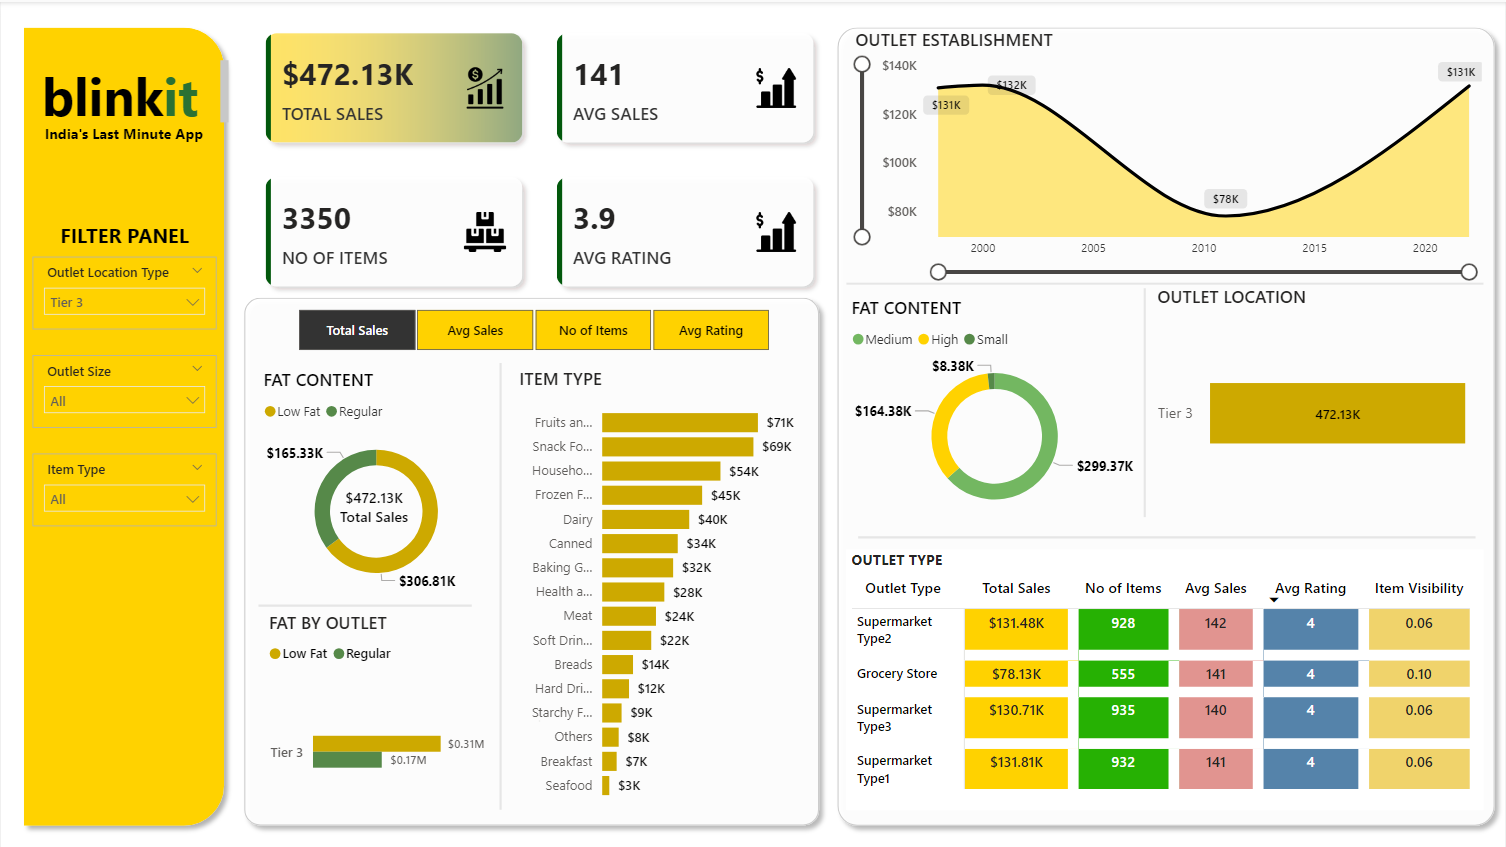

What the dashboard file says about the page in this screenshot:
{"tool":"powerbi","page":{"name":"Page 1","canvas":[1400,800],"ordinal":0},"visuals":[{"type":"shape","box":[12.8,14.6,204.5,761.4],"z":0},{"type":"textbox","box":[264.7,564.2,230.1,124.2],"z":1000},{"type":"textbox","box":[12.8,49.3,204.5,71.2],"z":2000},{"type":"textbox","box":[12.8,107.7,204.5,56.6],"z":3000},{"type":"cardVisual","fields":{"Data":["BlinkIT Grocery Data.Total Sales","BlinkIT Grocery Data.Avg Sales","BlinkIT Grocery Data.No of Items","BlinkIT Grocery Data.Avg Rating"]},"box":[217.3,0,569.7,295.8],"z":4000},{"type":"textbox","box":[1248.9,136.9,116.9,78.5],"z":5000},{"type":"textbox","box":[494.8,650,292.1,126],"z":6000},{"type":"textbox","box":[551.4,650,235.5,126],"z":7000},{"type":"shape","box":[217.3,266.6,553.2,509.4],"z":8000},{"type":"donutChart","title":"FAT CONTENT","fields":{"Y":["BlinkIT Grocery Data.Total Sales"],"Category":["BlinkIT Grocery Data.Item Fat Content"]},"box":[239.2,330.5,219.1,230.1],"z":9000},{"type":"slicer","fields":{"Values":["Metrics.Metrics"]},"box":[252,279.3,487.5,51.1],"z":10000},{"type":"cardVisual","fields":{"Data":["BlinkIT Grocery Data.Total Sales"]},"box":[277.5,429.1,140.6,80.3],"z":11000},{"type":"clusteredBarChart","title":"FAT BY OUTLET","fields":{"Y":["BlinkIT Grocery Data.Total Sales"],"Category":["BlinkIT Grocery Data.Outlet Location Type"],"Series":["BlinkIT Grocery Data.Item Fat Content"]},"box":[239.2,560.5,219.1,215.4],"z":12000},{"type":"shape","box":[239.2,544.1,199,36.5],"z":13000},{"type":"shape","box":[434.5,335.9,60.3,416.3],"z":14000},{"type":"clusteredBarChart","title":"ITEM TYPE","fields":{"Y":["BlinkIT Grocery Data.Total Sales"],"Category":["BlinkIT Grocery Data.Item Type"]},"box":[476.5,335.9,279.3,416.3],"z":15000},{"type":"shape","box":[770.5,14.6,629.9,761.4],"z":16000},{"type":"lineChart","title":"OUTLET ESTABLISHMENT","fields":{"Category":["BlinkIT Grocery Data.Outlet Establishment Year"],"Y":["BlinkIT Grocery Data.Total Sales"]},"box":[790.6,23.7,593.4,239.2],"z":17000},{"type":"shape","box":[786.9,228.2,593.4,67.6],"z":18000},{"type":"donutChart","title":"FAT CONTENT","fields":{"Y":["BlinkIT Grocery Data.Total Sales"],"Category":["BlinkIT Grocery Data.Outlet Size"]},"box":[786.9,262.9,275.7,224.6],"z":19000},{"type":"shape","box":[1044.4,266.6,40.2,213.6],"z":20000},{"type":"funnel","title":"OUTLET LOCATION","fields":{"Y":["Sum(BlinkIT Grocery Data.Sales)"],"Category":["BlinkIT Grocery Data.Outlet Location Type"]},"box":[1071.8,262.9,301.3,217.3],"z":21000},{"type":"shape","box":[797.9,480.2,575.1,36.5],"z":22000},{"type":"pivotTable","title":"OUTLET TYPE","fields":{"Rows":["BlinkIT Grocery Data.Outlet Type"],"Values":["BlinkIT Grocery Data.Total Sales","BlinkIT Grocery Data.No of Items","BlinkIT Grocery Data.Avg Sales","BlinkIT Grocery Data.Avg Rating","Avg(BlinkIT Grocery Data.Item Visibility)"]},"box":[786.9,509.4,593.4,242.8],"z":23000},{"type":"slicer","fields":{"Values":["BlinkIT Grocery Data.Outlet Location Type"]},"box":[29.2,237.4,171.6,67.6],"z":24000},{"type":"slicer","fields":{"Values":["BlinkIT Grocery Data.Outlet Size"]},"box":[29.2,328.6,171.6,67.6],"z":25000},{"type":"slicer","fields":{"Values":["BlinkIT Grocery Data.Item Type"]},"box":[29.2,419.9,171.6,67.6],"z":25001},{"type":"textbox","box":[29.2,199,171.6,38.3],"z":25002}]}

Visuals, with their boxes in screenshot pixels (x1, y1, x2, y2), scaled from the page's 1400x800 canvas onto the 1506x847 screenshot:
shape: bbox=(14, 15, 234, 822)
textbox: bbox=(285, 597, 532, 729)
textbox: bbox=(14, 52, 234, 128)
textbox: bbox=(14, 114, 234, 174)
cardVisual - BlinkIT Grocery Data.Total Sales x BlinkIT Grocery Data.Avg Sales: bbox=(234, 0, 847, 313)
textbox: bbox=(1343, 145, 1469, 228)
textbox: bbox=(532, 688, 846, 822)
textbox: bbox=(593, 688, 846, 822)
shape: bbox=(234, 282, 829, 822)
"FAT CONTENT" donutChart: bbox=(257, 350, 493, 594)
slicer - Metrics.Metrics: bbox=(271, 296, 795, 350)
cardVisual - BlinkIT Grocery Data.Total Sales: bbox=(299, 454, 450, 539)
"FAT BY OUTLET" clusteredBarChart: bbox=(257, 593, 493, 821)
shape: bbox=(257, 576, 471, 615)
shape: bbox=(467, 356, 532, 796)
"ITEM TYPE" clusteredBarChart: bbox=(513, 356, 813, 796)
shape: bbox=(829, 15, 1505, 822)
"OUTLET ESTABLISHMENT" lineChart: bbox=(850, 25, 1489, 278)
shape: bbox=(846, 242, 1485, 313)
"FAT CONTENT" donutChart: bbox=(846, 278, 1143, 516)
shape: bbox=(1123, 282, 1167, 508)
"OUTLET LOCATION" funnel: bbox=(1153, 278, 1477, 508)
shape: bbox=(858, 508, 1477, 547)
"OUTLET TYPE" pivotTable: bbox=(846, 539, 1485, 796)
slicer - BlinkIT Grocery Data.Outlet Location Type: bbox=(31, 251, 216, 323)
slicer - BlinkIT Grocery Data.Outlet Size: bbox=(31, 348, 216, 419)
slicer - BlinkIT Grocery Data.Item Type: bbox=(31, 445, 216, 516)
textbox: bbox=(31, 211, 216, 251)
